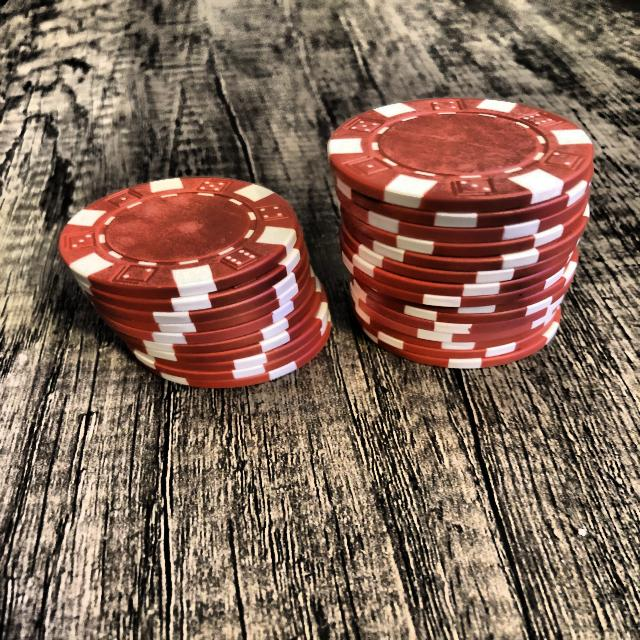Chip: (325, 95, 596, 370), (55, 174, 337, 389)
